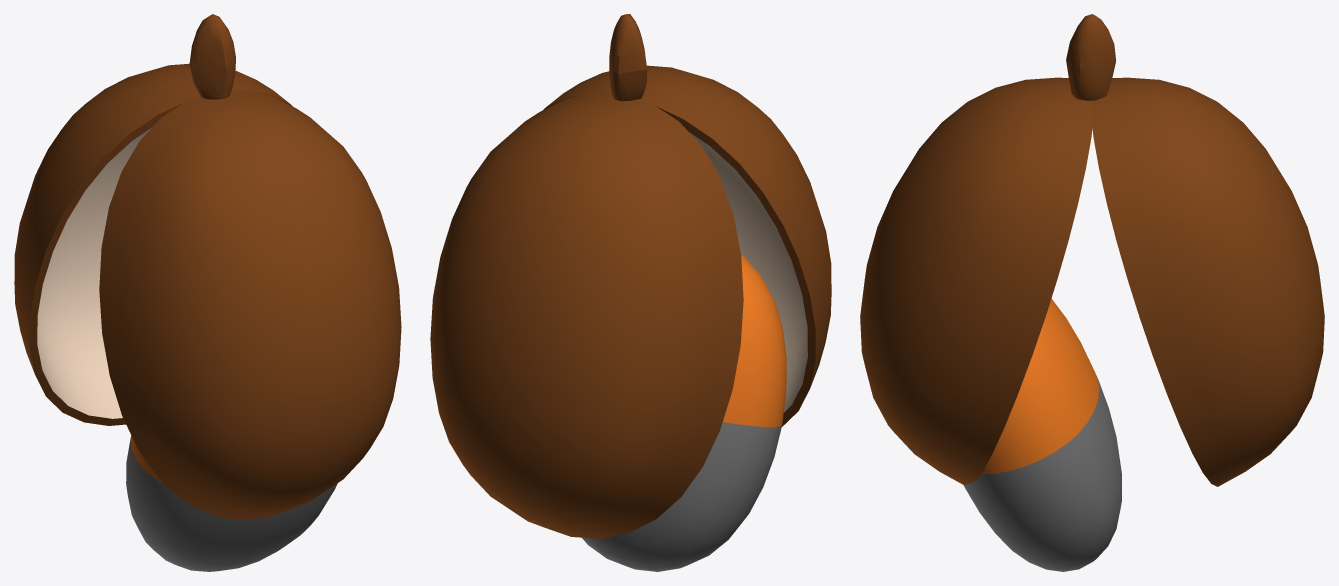
Rendered from copaiba.fbx.
3 renders of one model, left to right at view 1: azimuth 30°, elevation 25°; view 2: azimuth 150°, elevation 25°; view 3: azimuth 270°, elevation 25°, orthographic. The views are drawn at different scales.
Visible parts, largest first — view 1: Cubo.001, Cubo.002, Cubo; view 2: Cubo.001, Cubo.002, Cubo; view 3: Cubo.001, Cubo.002, Cubo.
Boxes of the visible parts, x1,y1,x2,y2 form: Cubo.001: (14, 63, 401, 519); Cubo.002: (126, 435, 337, 571); Cubo: (189, 14, 235, 99); Cubo.001: (430, 65, 831, 538); Cubo.002: (582, 254, 786, 571); Cubo: (609, 14, 647, 101); Cubo.001: (860, 77, 1324, 486); Cubo.002: (963, 298, 1121, 571); Cubo: (1066, 14, 1115, 100).
Bounding box in the file's own units: 164 × 304 × 233.
